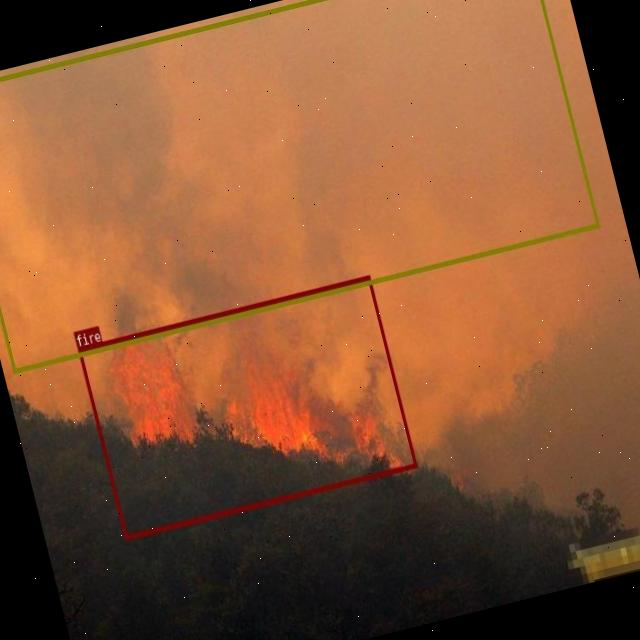fire: (77, 274, 417, 538)
smoke: (0, 0, 598, 372)
